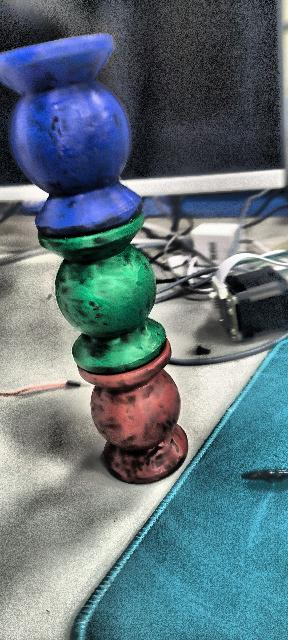blue: (0, 35, 151, 242)
green: (33, 222, 174, 378)
red: (77, 344, 193, 483)
